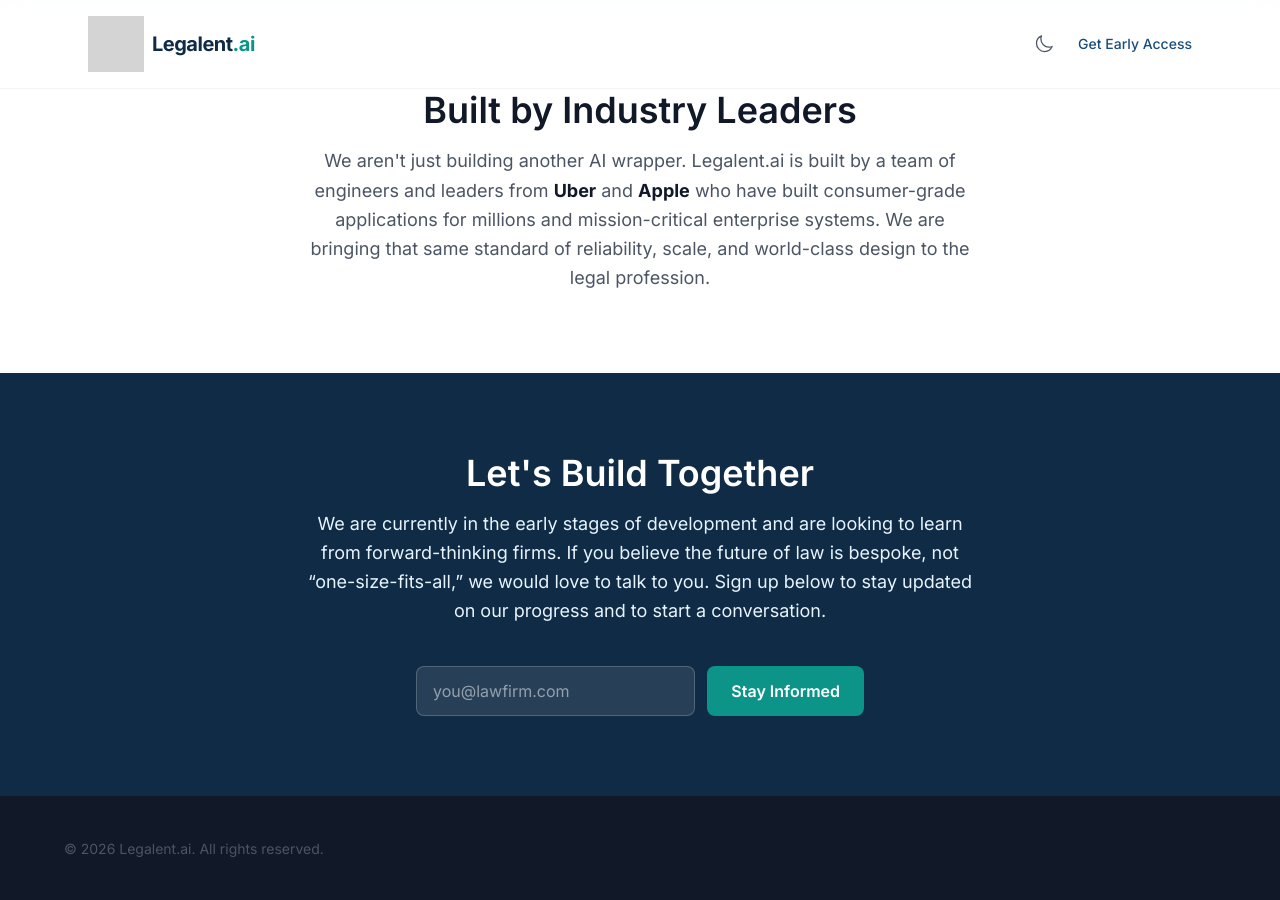
CTASection › shows error for invalid email submission
(page scrolled)
Type "invalid-email" into the field with placeholder "you@lawfirm.com" at (556, 690), box [416,666,695,716]
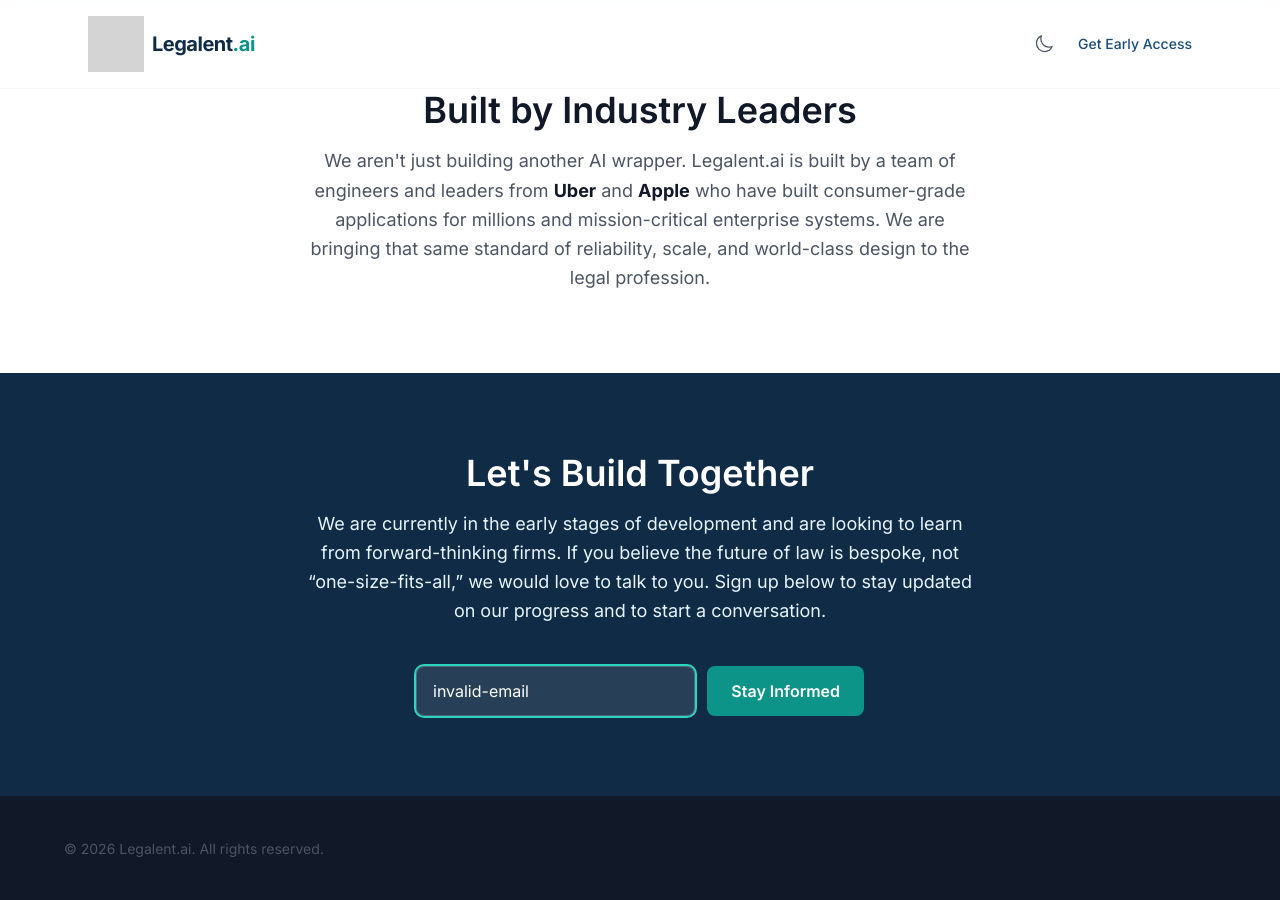
Click the button "Stay Informed" at (786, 690), box [707,666,864,716]
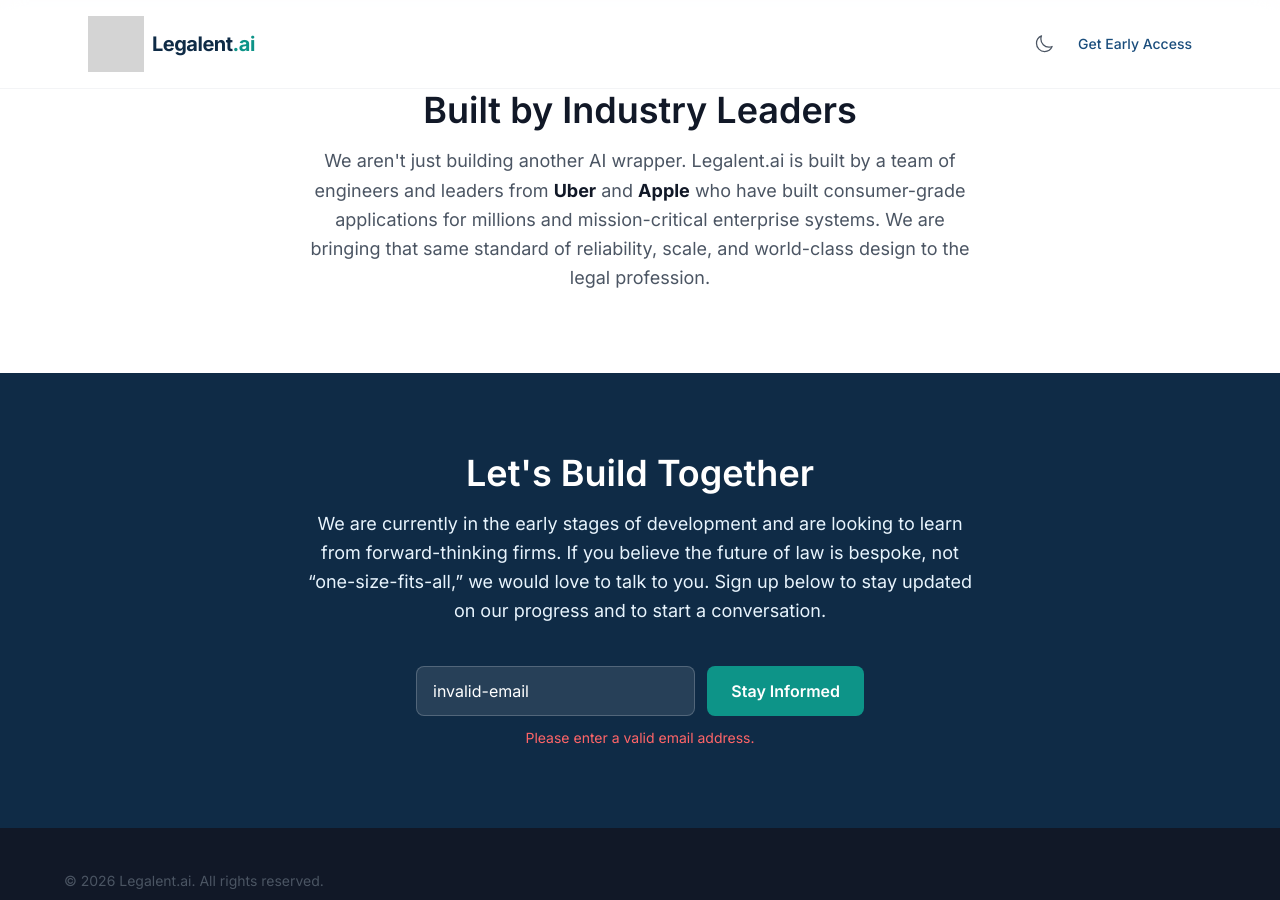
Expected: the text "Please enter a valid email address." is shown, [526,728,754,746]
